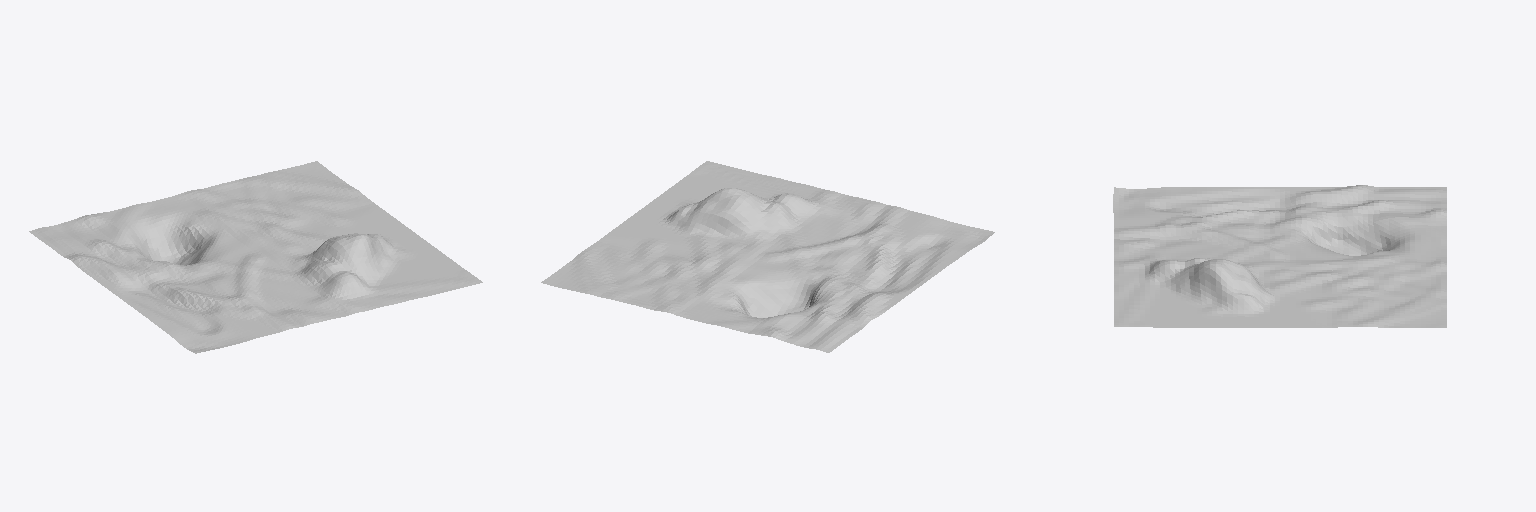
Rendered from Terrain.obj.
3 views of the same model, side by side, from view 1: azimuth 30°, elevation 25°; view 2: azimuth 150°, elevation 25°; view 3: azimuth 270°, elevation 25° (orthographic).
Parts seen in each view (by area): view 1: Plane; view 2: Plane; view 3: Plane.
Part boxes in pixels (x1,y1,x2,y2): Plane: (29, 161, 482, 353); Plane: (541, 161, 994, 352); Plane: (1113, 185, 1446, 327).
Size of the model in its own units: 1940 by 341 by 1940.